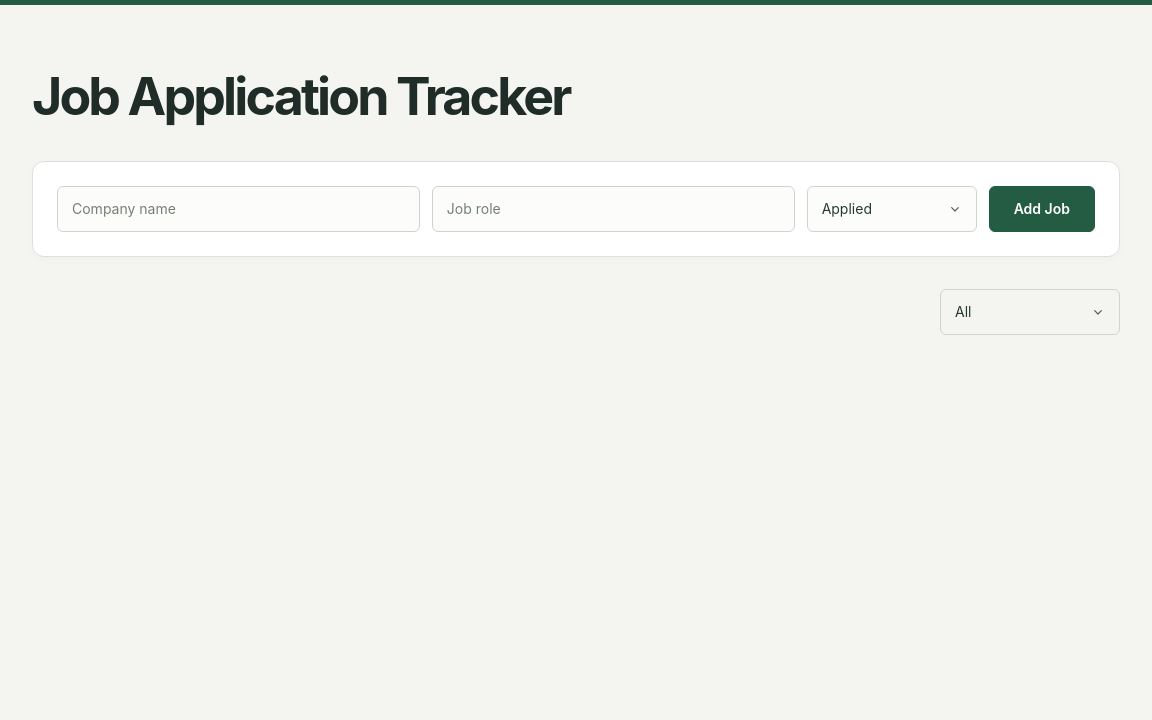
Test case: Job Application Tracker › delete a job
Type "OpenAI" into the field with placeholder "Company name" at [238, 209], box top-left (57, 186), bottom-right (420, 232)
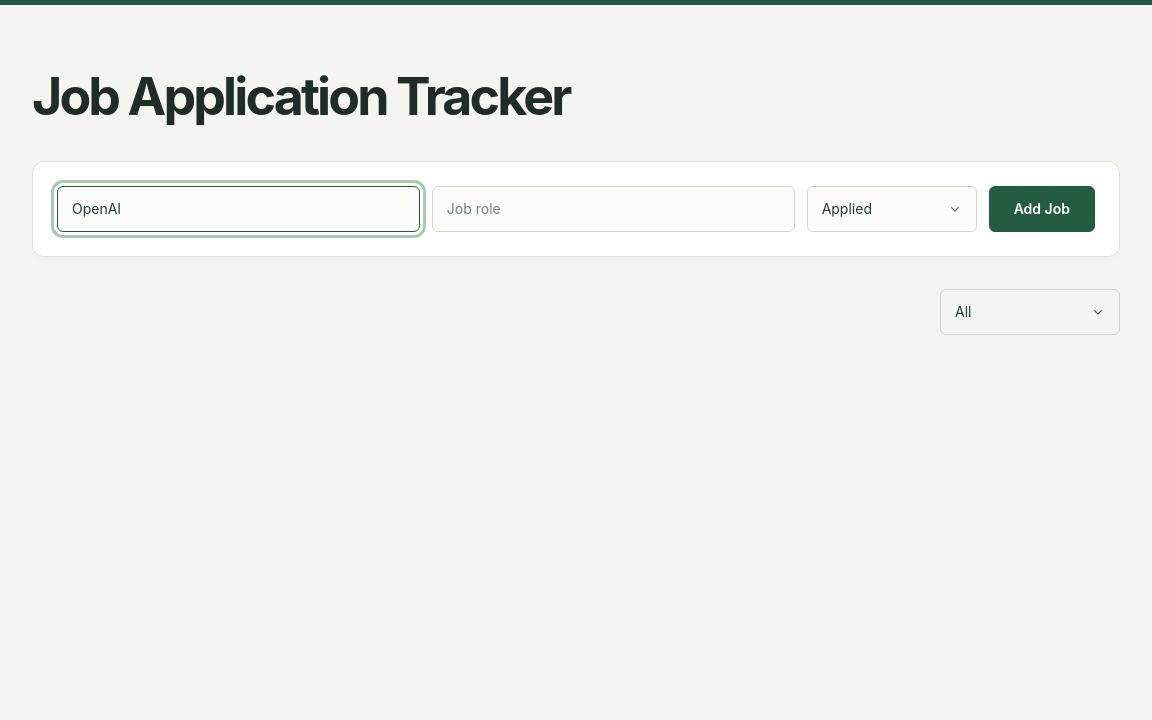
Type "Backend Developer" into the field with placeholder "Job role" at [613, 209], box top-left (432, 186), bottom-right (795, 232)
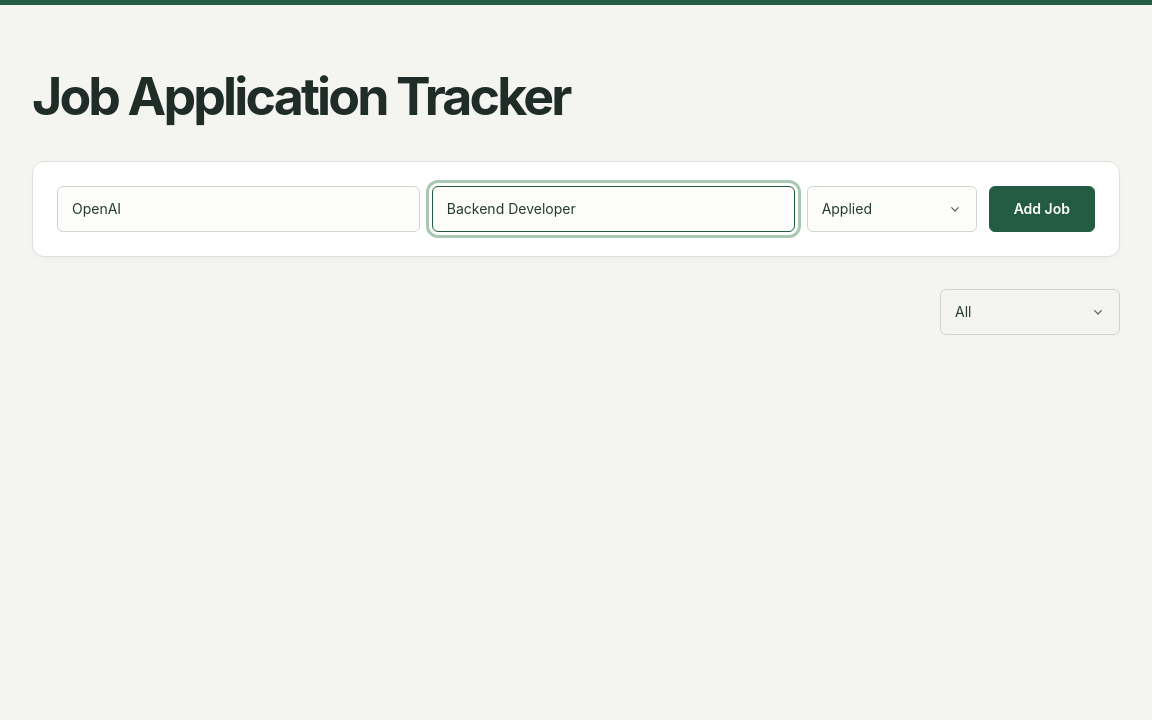
Click the button "Add Job" at [1042, 209], box top-left (989, 186), bottom-right (1095, 232)
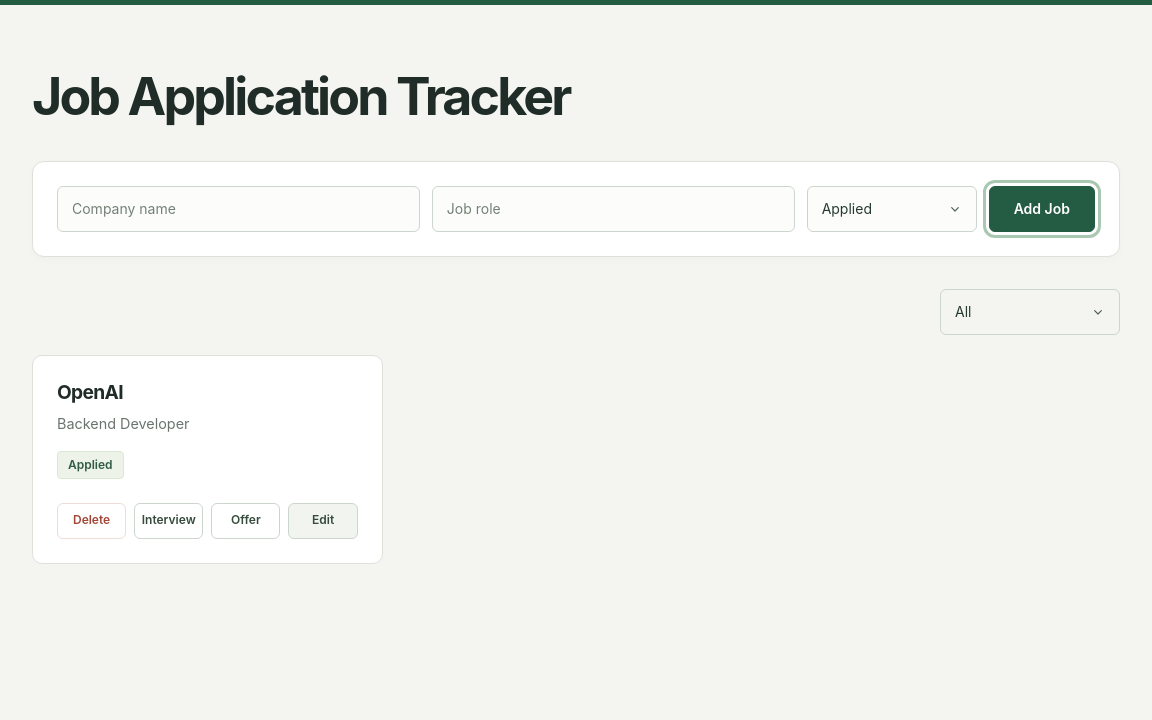
expect the heading "OpenAI" is shown: met, box top-left (57, 380), bottom-right (123, 404)
expect the text "Backend Developer" is shown: met, box top-left (57, 415), bottom-right (190, 432)
Click the button "Delete" at [92, 520], box top-left (57, 502), bottom-right (126, 538)
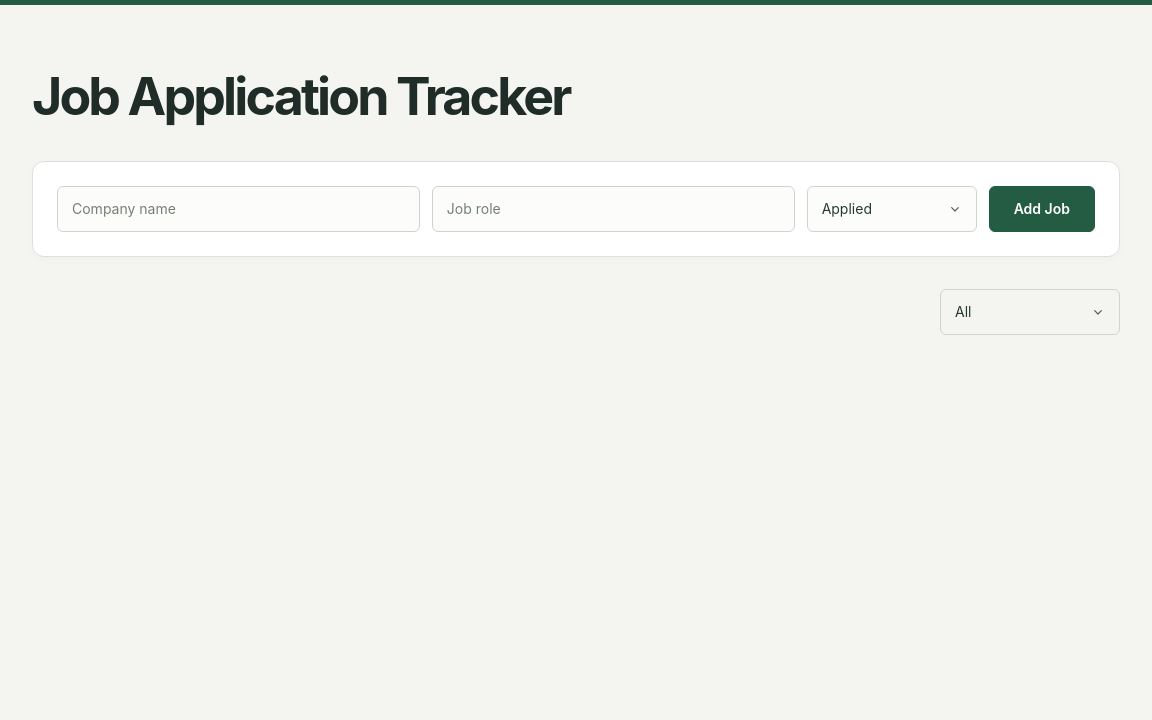
expect the heading "OpenAI" is gone: met
expect the text "Backend Developer" is gone: met
